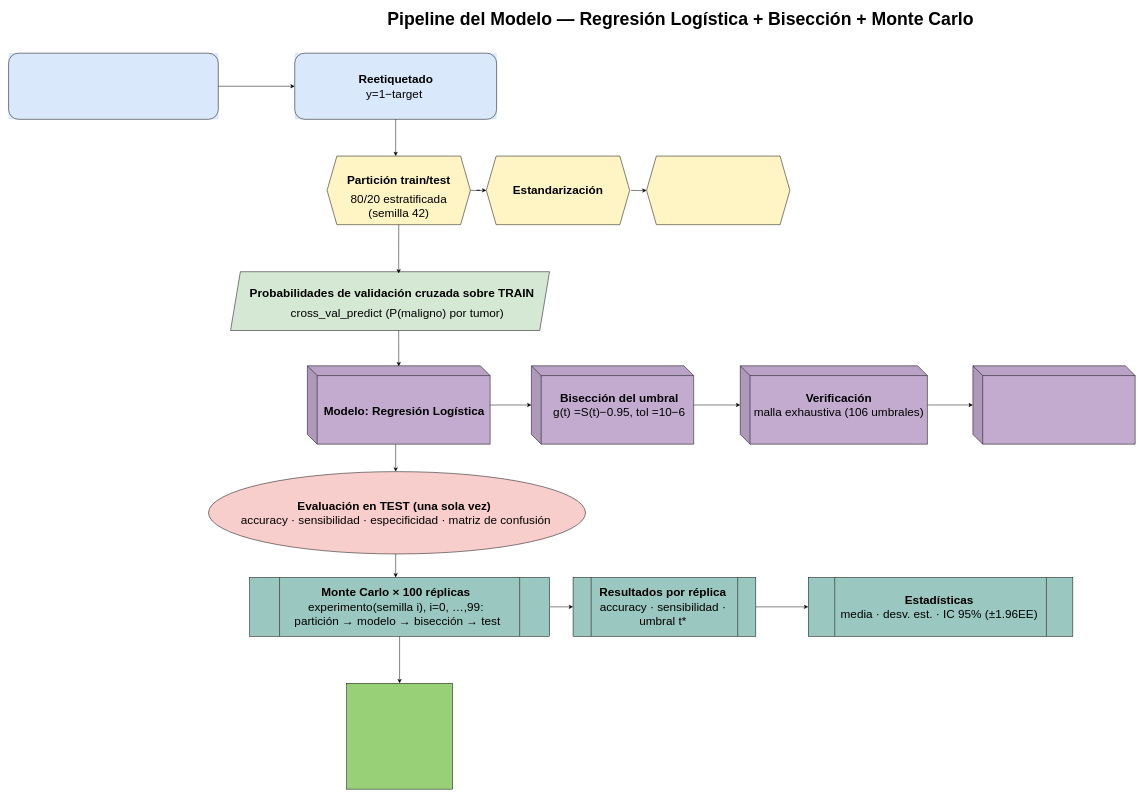
Image size: 1144x798. Some labels were removed from this diagram. The shapes that lost their labels are listed below. From the top down, each one's centre as x and y in pixels, then its label:
At (x=113, y=86): "Dataset Breast Cancer (569 tumores, 30 características)".
At (x=718, y=190): "Pipeline escalar + modelo".
At (x=1053, y=404): "Umbral t* elegido solo con datos de TRAIN".
At (x=399, y=736): "Conclusiones (OE1, OE2, OE3)".
